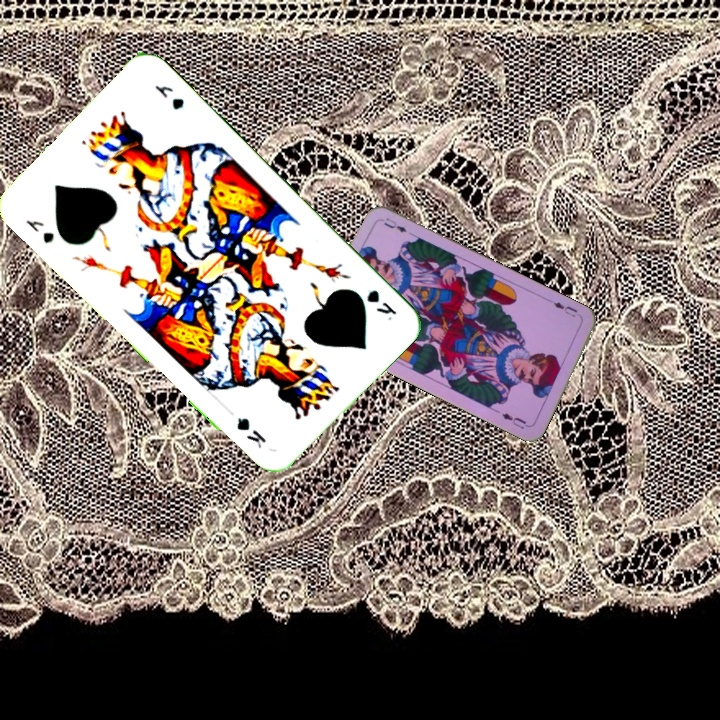EU: (546, 297, 584, 320)
GK: (362, 285, 400, 318), (21, 215, 57, 247)
